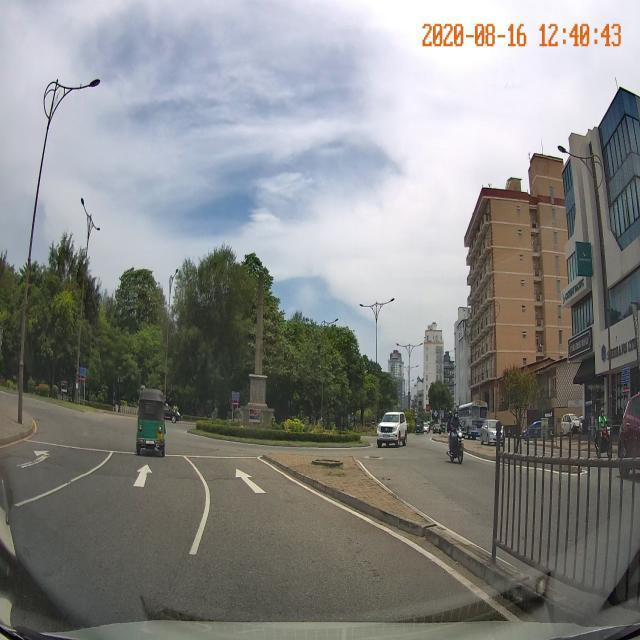forward: (200, 465, 305, 499)
